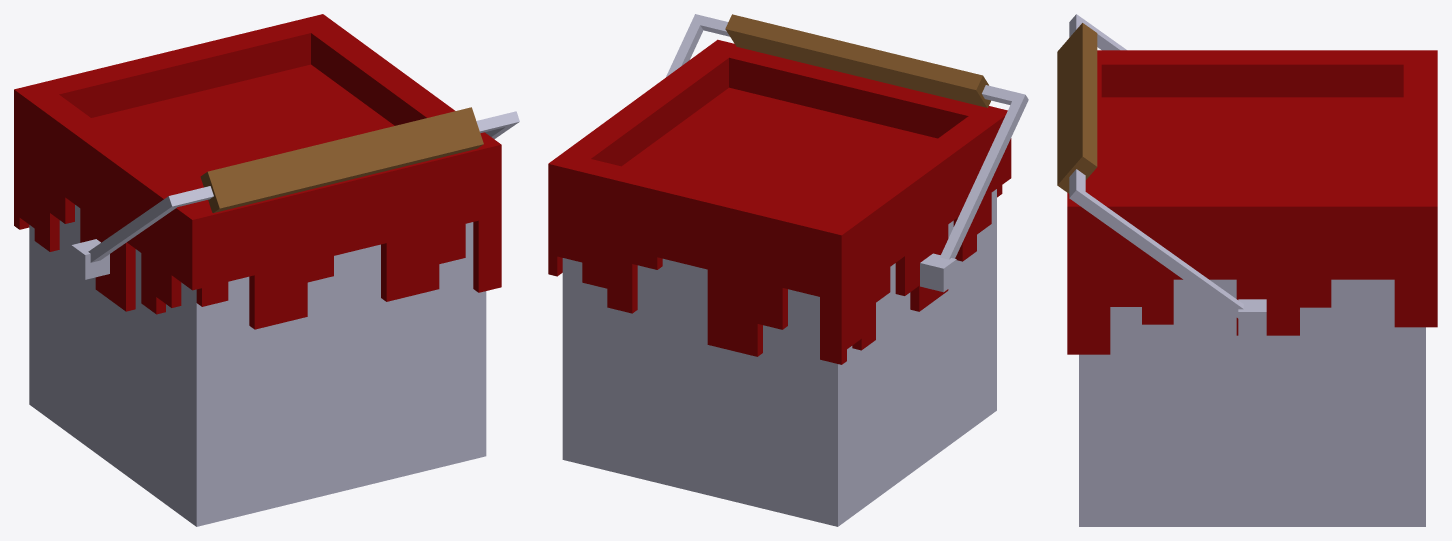
The model's file is bucket.glb.
The picture shows the model from 3 angles, left to right: view 1: azimuth 30°, elevation 25°; view 2: azimuth 150°, elevation 25°; view 3: azimuth 270°, elevation 25°; orthographic projection. The views are drawn at different scales.
Parts seen in each view (by area): view 1: Bucket, Paint; view 2: Paint, Bucket; view 3: Paint, Bucket.
Part boxes in pixels (<box>): Bucket: <box>29,107,519,526</box>; Paint: <box>14,14,501,329</box>; Paint: <box>548,39,1011,364</box>; Bucket: <box>562,14,1028,526</box>; Paint: <box>1067,50,1437,354</box>; Bucket: <box>1057,14,1425,526</box>.
Size of the model in its own units: 3.72 by 3.47 by 3.29.
